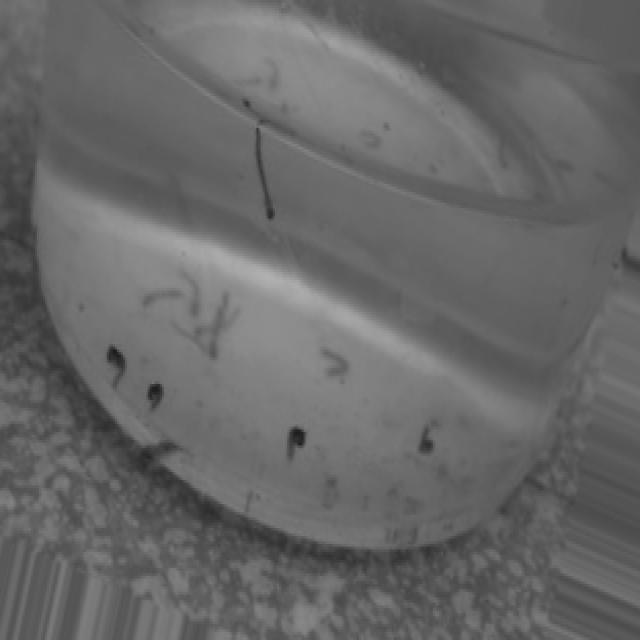larvas: (245, 96, 304, 144), (251, 126, 276, 222), (169, 316, 209, 355), (208, 293, 231, 360), (175, 264, 202, 318), (196, 308, 242, 337), (326, 347, 352, 379), (108, 342, 126, 386), (140, 439, 184, 457), (284, 429, 306, 462), (353, 131, 385, 151), (222, 77, 266, 91), (142, 288, 174, 306), (270, 51, 281, 96), (147, 380, 164, 409)
